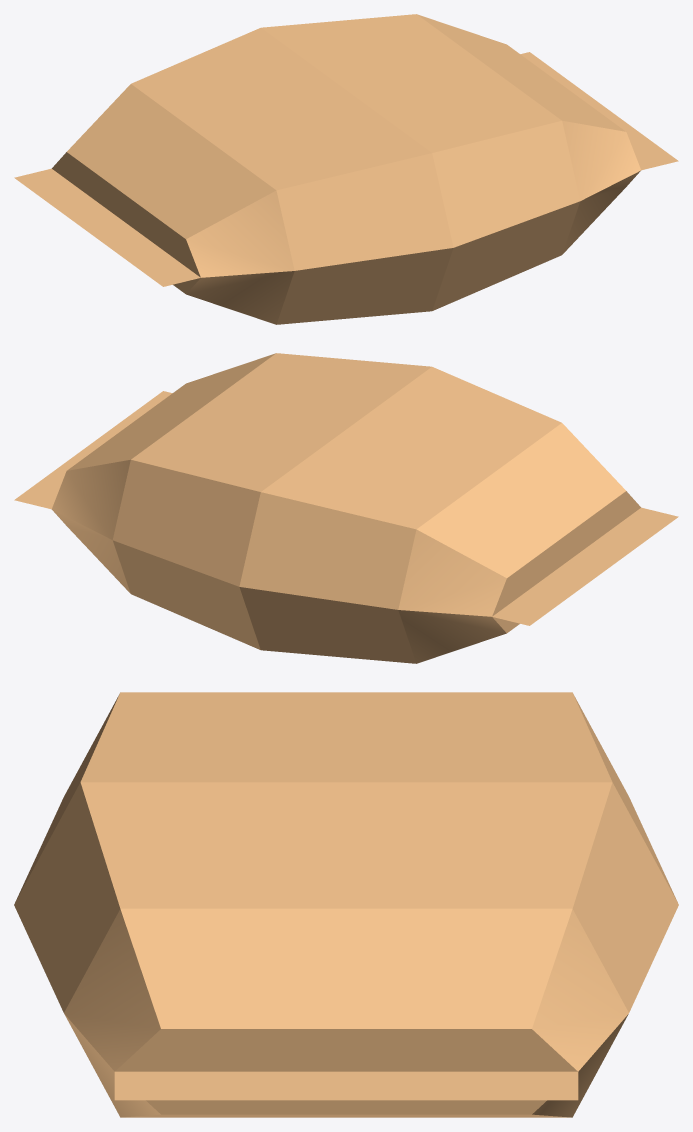
The model's file is bagFlat.obj.
3 renders of one model, top to bottom at view 1: azimuth 30°, elevation 25°; view 2: azimuth 150°, elevation 25°; view 3: azimuth 270°, elevation 25°, orthographic. The views are drawn at different scales.
Visible parts, largest first — view 1: bagFlat; view 2: bagFlat; view 3: bagFlat.
Boxes of the visible parts, x1=… form: bagFlat: x1=14, y1=14, x2=678, y2=324; bagFlat: x1=14, y1=353, x2=678, y2=663; bagFlat: x1=14, y1=692, x2=678, y2=1117.
Bounding box in the file's own units: 0.65 × 0.1905 × 0.4675.
